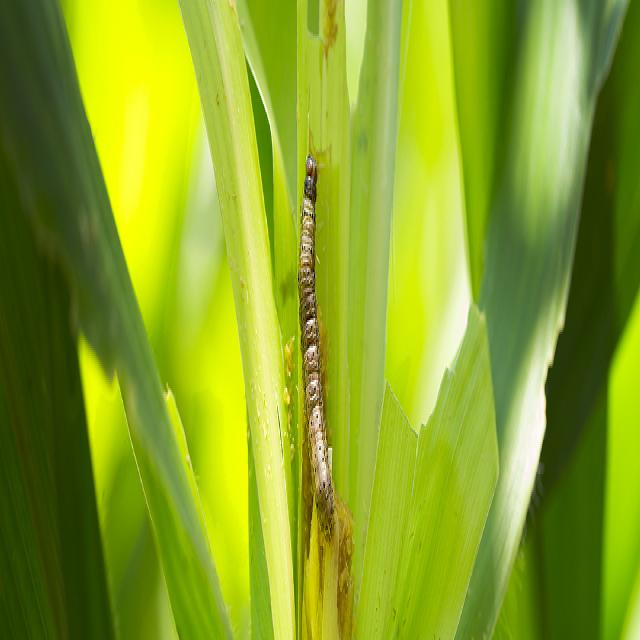Fall-Armyworm: (298, 138, 345, 540)
